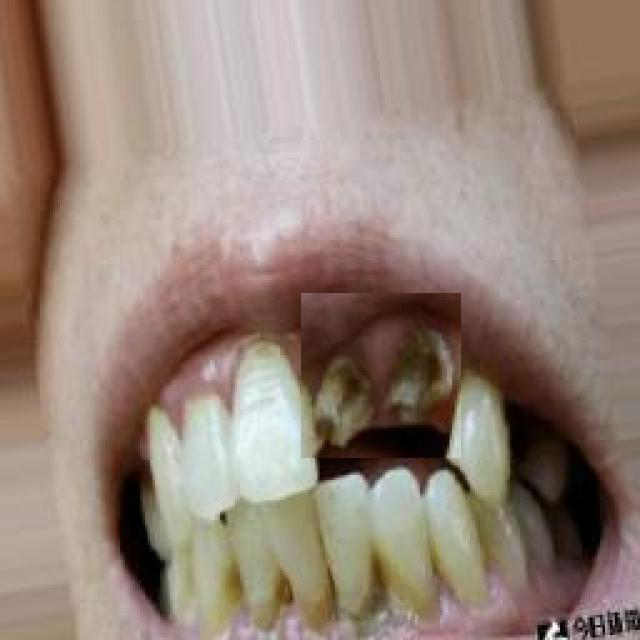caries: (301, 293, 461, 458)
